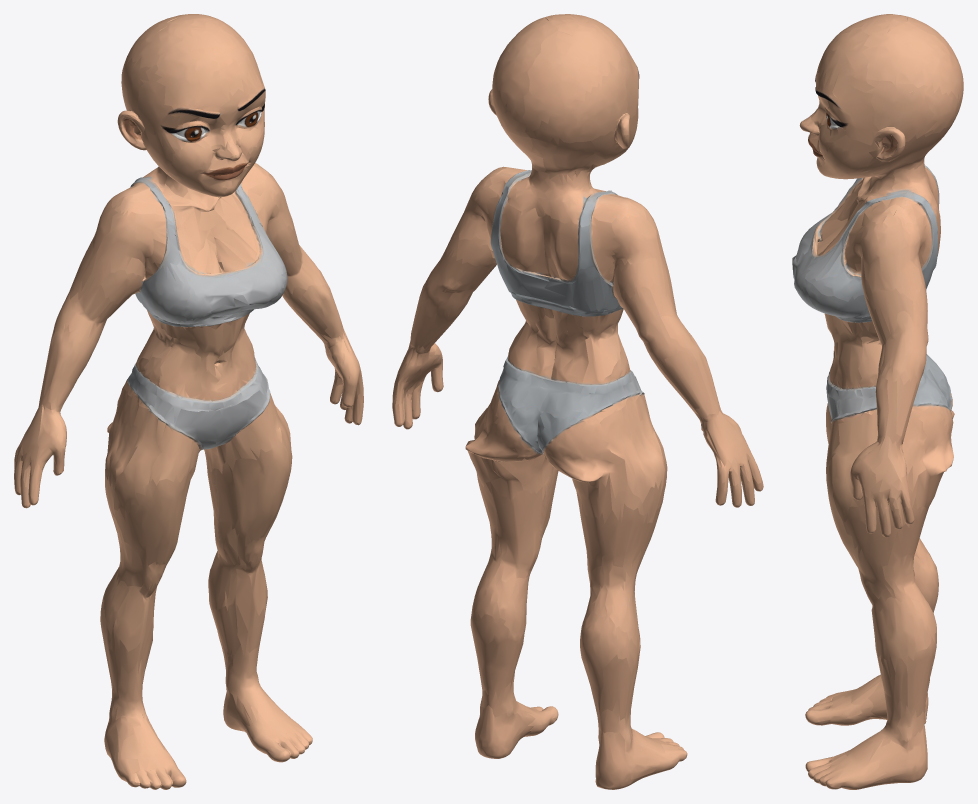
File: body_female_athletic.glb
3 renders of one model, left to right at view 1: azimuth 30°, elevation 25°; view 2: azimuth 150°, elevation 25°; view 3: azimuth 270°, elevation 25°, orthographic. The views are drawn at different scales.
Parts seen in each view (by area): view 1: body_athletic; view 2: body_athletic; view 3: body_athletic.
Part boxes in pixels (x1,y1,x2,y2): body_athletic: [14, 14, 363, 789]; body_athletic: [392, 14, 763, 789]; body_athletic: [792, 14, 963, 789].
Bounding box in the file's own units: 0.8343 × 1.7 × 0.3617.
1 material, 1 textured.
